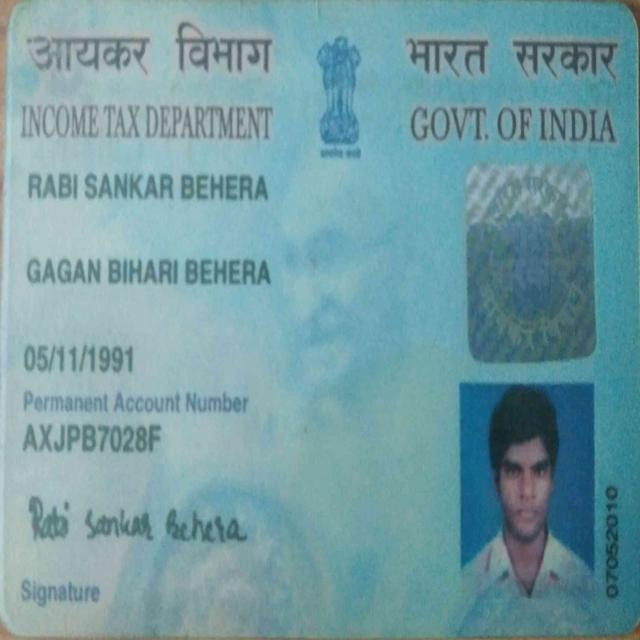pan_card: (10, 3, 637, 640)
